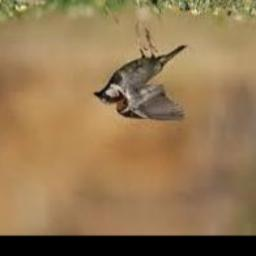Sparrow: (94, 23, 188, 121)
